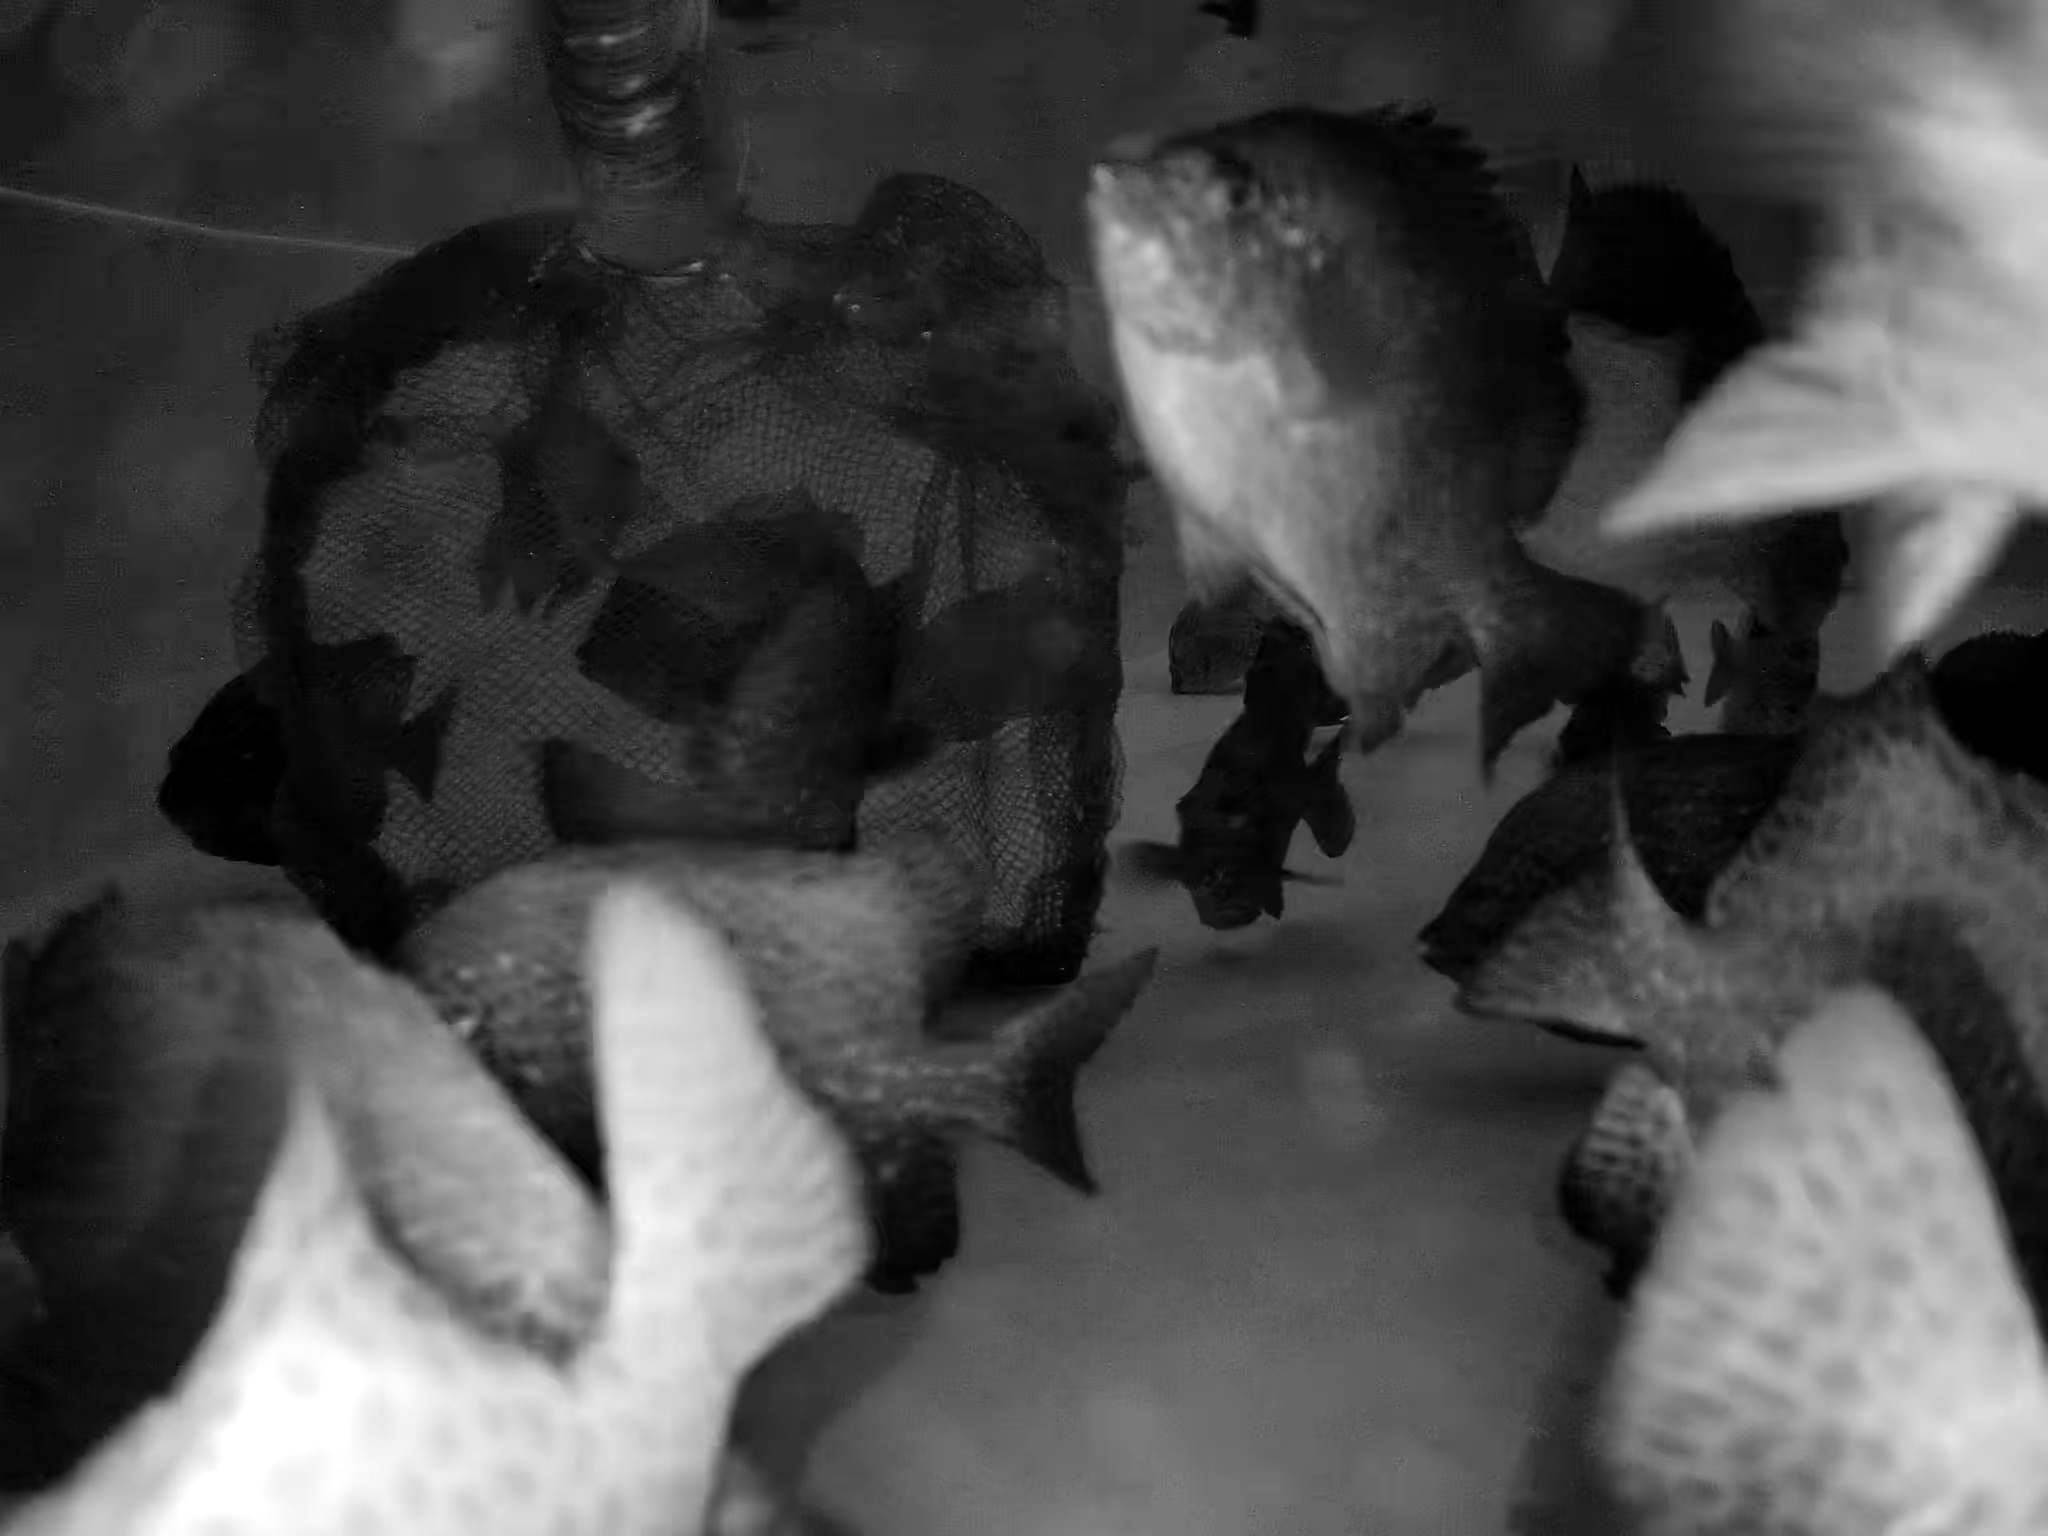fish: (1050, 115, 1663, 724), (200, 915, 798, 1536), (1442, 728, 2048, 1326), (87, 836, 605, 1415), (448, 823, 1135, 1234), (1637, 1029, 2042, 1536), (700, 592, 1035, 800), (140, 641, 439, 874), (1737, 650, 2048, 823), (516, 742, 777, 923), (1177, 713, 1367, 952), (564, 515, 876, 660), (1180, 591, 1426, 682), (1716, 613, 1814, 741)
